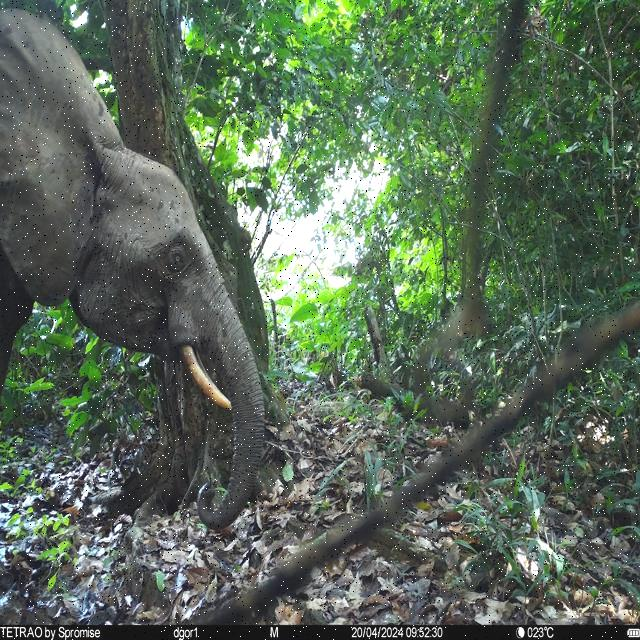ear: (0, 8, 123, 308)
elephant: (0, 5, 287, 532)
tusk: (178, 345, 236, 411)
